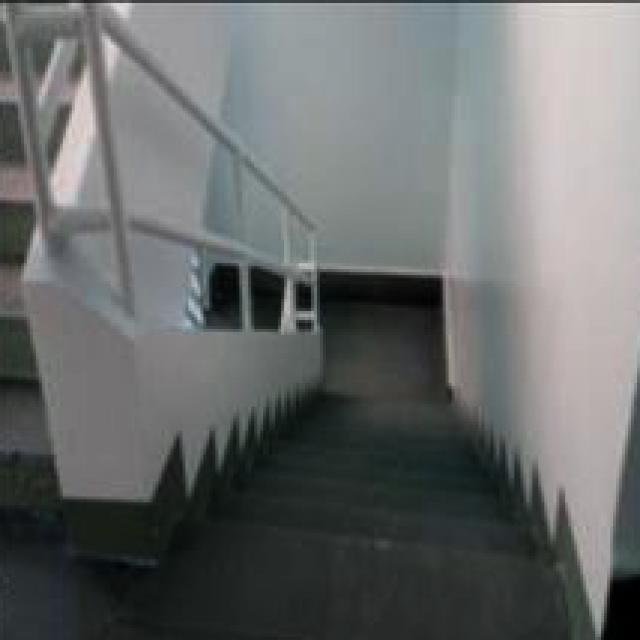downstair: (208, 378, 558, 572)
